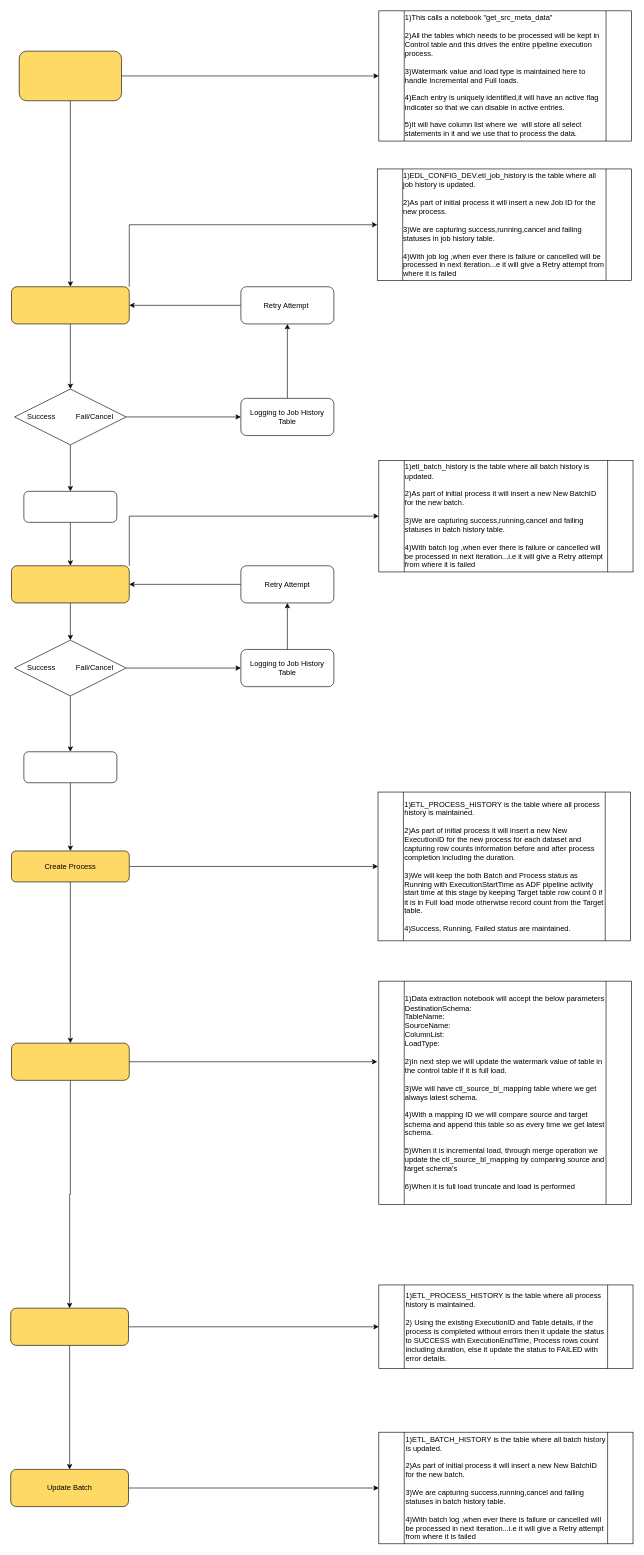
This 644x1555 diagram has some shape labels left out. The shapes that lost their labels are listed below. From the top down, each one's box as (x1, y1, x2, y2) in pixels, then its label:
(19, 51, 122, 101): MetaDataLookup
(11, 286, 129, 324): Create Job
(23, 491, 117, 522): Logging to Job History table on success
(11, 565, 129, 603): Create Batch
(23, 751, 117, 783): Logging to Batch History table on success
(11, 1043, 129, 1080): Source Data Extraction
(10, 1308, 129, 1345): Update Process
